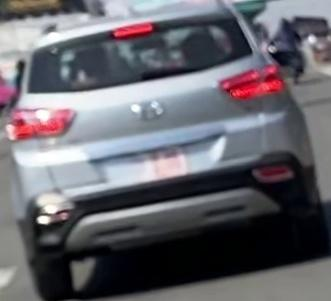license-plate: (136, 148, 211, 186)
